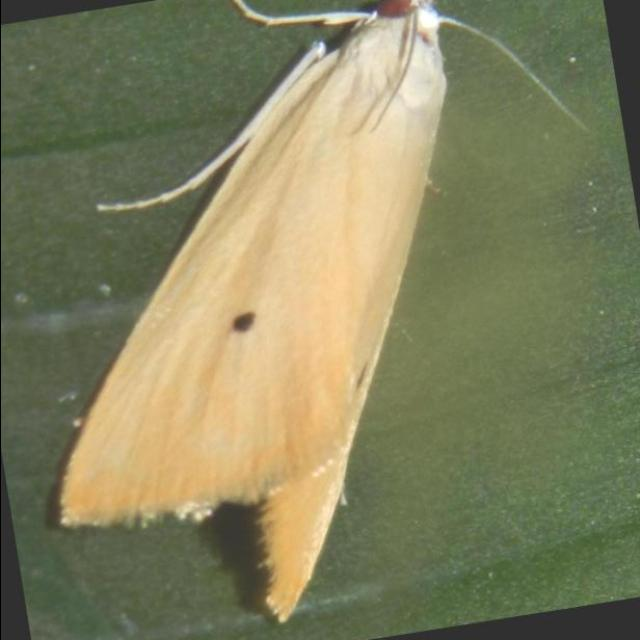stem borer: (60, 0, 580, 622)
